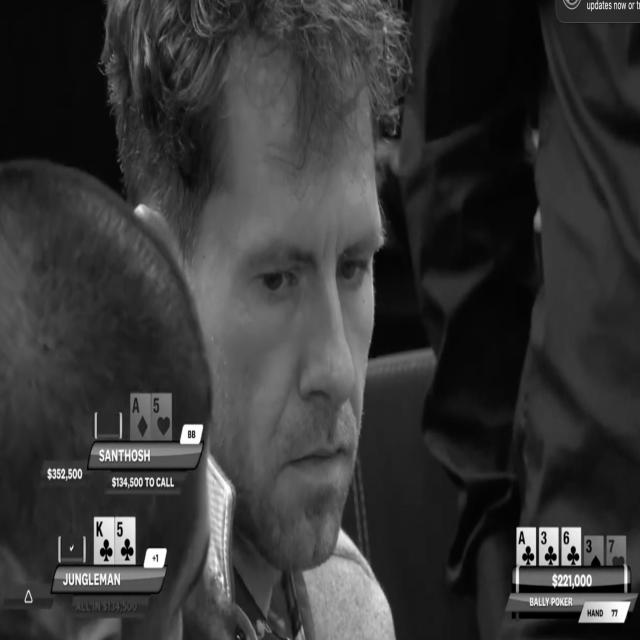3C: (540, 527, 558, 565)
3S: (585, 536, 603, 566)
5C: (116, 517, 135, 564)
5H: (152, 394, 171, 438)
6C: (563, 529, 581, 566)
7H: (607, 535, 625, 566)
AC: (517, 528, 536, 565)
AD: (131, 394, 149, 439)
KC: (95, 518, 113, 564)
